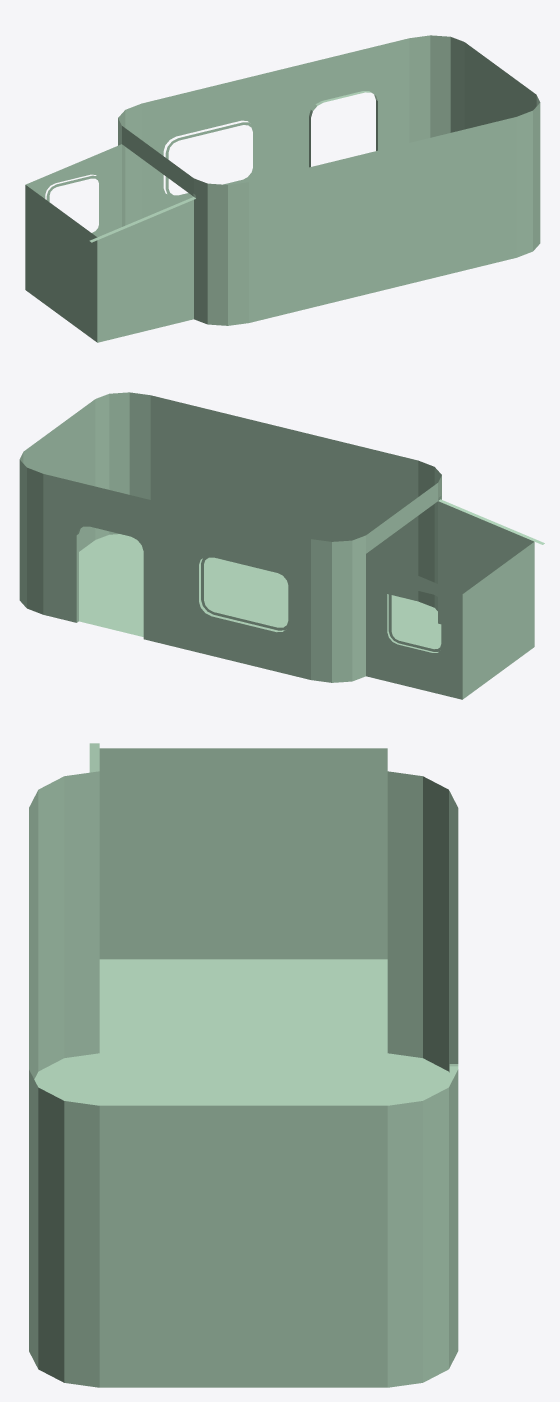
File: Bld_R_low_L3_B.fbx
3 views of the same model, one above another, from view 1: azimuth 30°, elevation 25°; view 2: azimuth 150°, elevation 25°; view 3: azimuth 270°, elevation 25° (orthographic). The views are drawn at different scales.
Parts seen in each view (by area): view 1: Bld_R_low_L3_B_LOD0; view 2: Bld_R_low_L3_B_LOD0; view 3: Bld_R_low_L3_B_LOD0.
Part boxes in pixels (left/top/right/bottom): Bld_R_low_L3_B_LOD0: left=25, top=35, right=540, bottom=342; Bld_R_low_L3_B_LOD0: left=19, top=392, right=544, bottom=699; Bld_R_low_L3_B_LOD0: left=29, top=743, right=458, bottom=1387.
Size of what is drawn, in the model's own units: 1400 by 561 by 697.
Materials: 1 (1 with a texture image).
